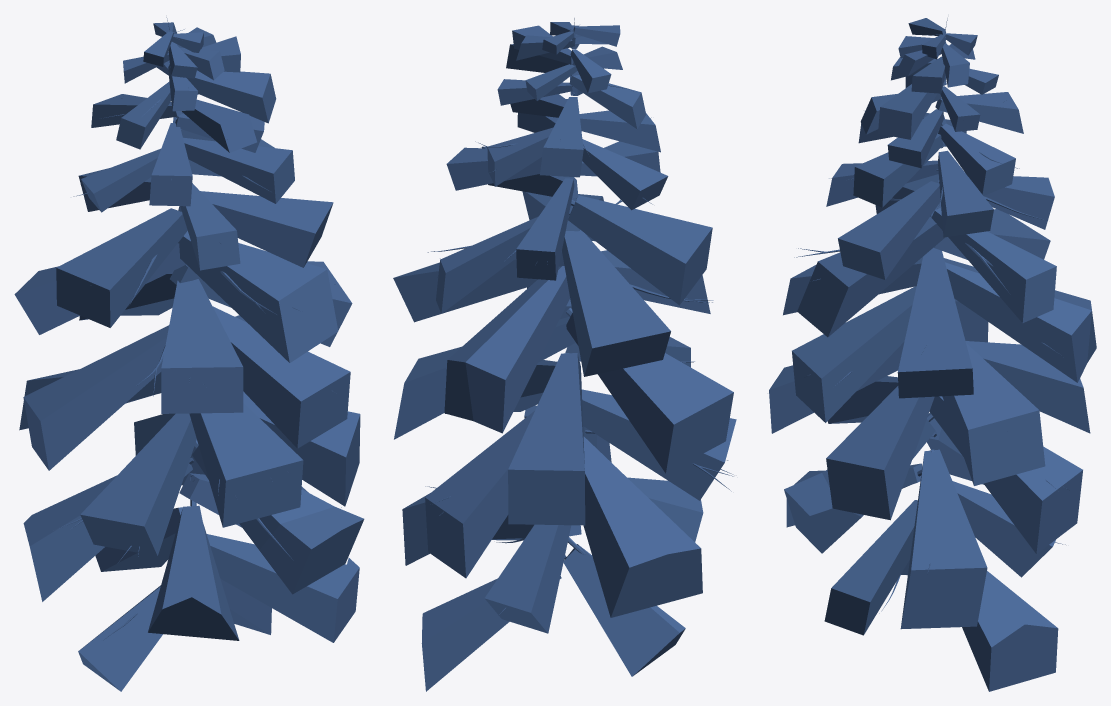
Rendered from tree-winter-leaves-15-044.glb.
3 renders of one model, left to right at view 1: azimuth 30°, elevation 25°; view 2: azimuth 150°, elevation 25°; view 3: azimuth 270°, elevation 25°, orthographic. The views are drawn at different scales.
Visible parts, largest first — view 1: TREE 15.012_193; view 2: TREE 15.012_193; view 3: TREE 15.012_193.
Part boxes in pixels (x1=…): TREE 15.012_193: x1=14, y1=17, x2=364, y2=691; TREE 15.012_193: x1=393, y1=18, x2=736, y2=691; TREE 15.012_193: x1=769, y1=18, x2=1096, y2=691.
Bounding box in the file's own units: 0.8007 × 1.63 × 0.7878.
